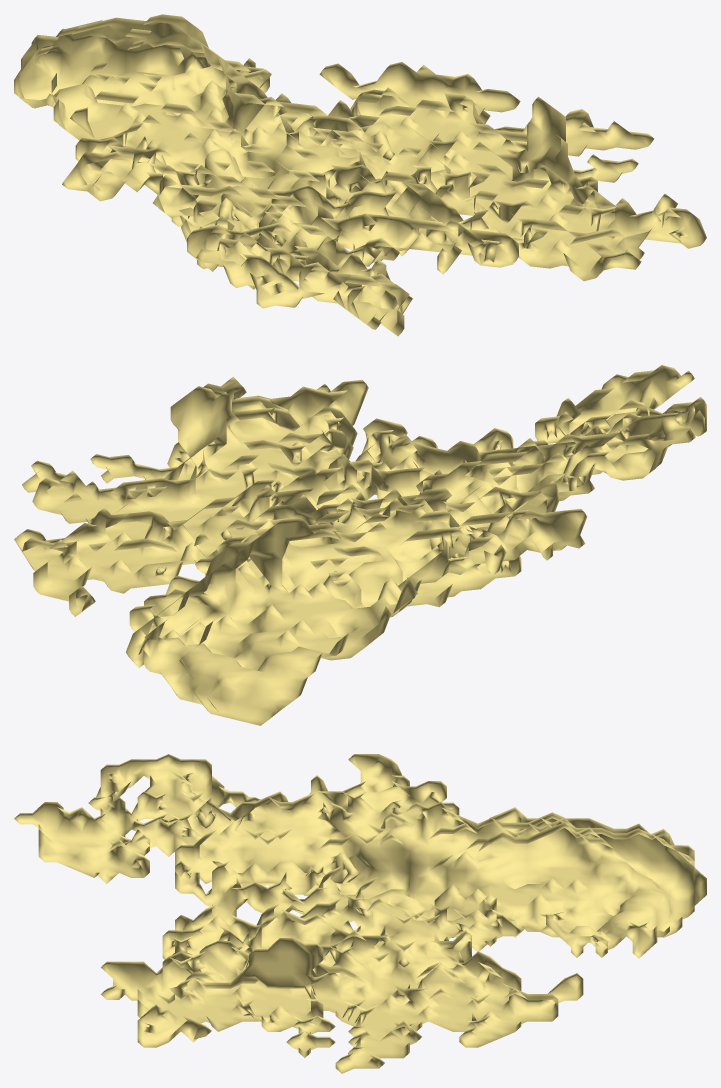
The model's file is osteocyte_3.glb.
The picture shows the model from 3 angles, top to bottom: view 1: azimuth 30°, elevation 25°; view 2: azimuth 150°, elevation 25°; view 3: azimuth 270°, elevation 25°; orthographic projection. The views are drawn at different scales.
Visible parts, largest first — view 1: osteocyte_3; view 2: osteocyte_3; view 3: osteocyte_3.
Part boxes in pixels (<box>): osteocyte_3: <box>14,14,706,336</box>; osteocyte_3: <box>14,365,706,725</box>; osteocyte_3: <box>14,754,706,1073</box>.
Bounding box in the file's own units: 22.15 × 3.85 × 26.96.
